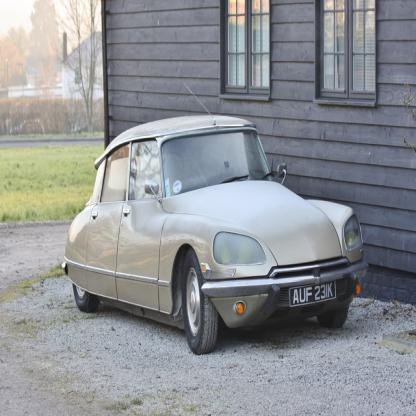Car: (62, 81, 368, 355)
